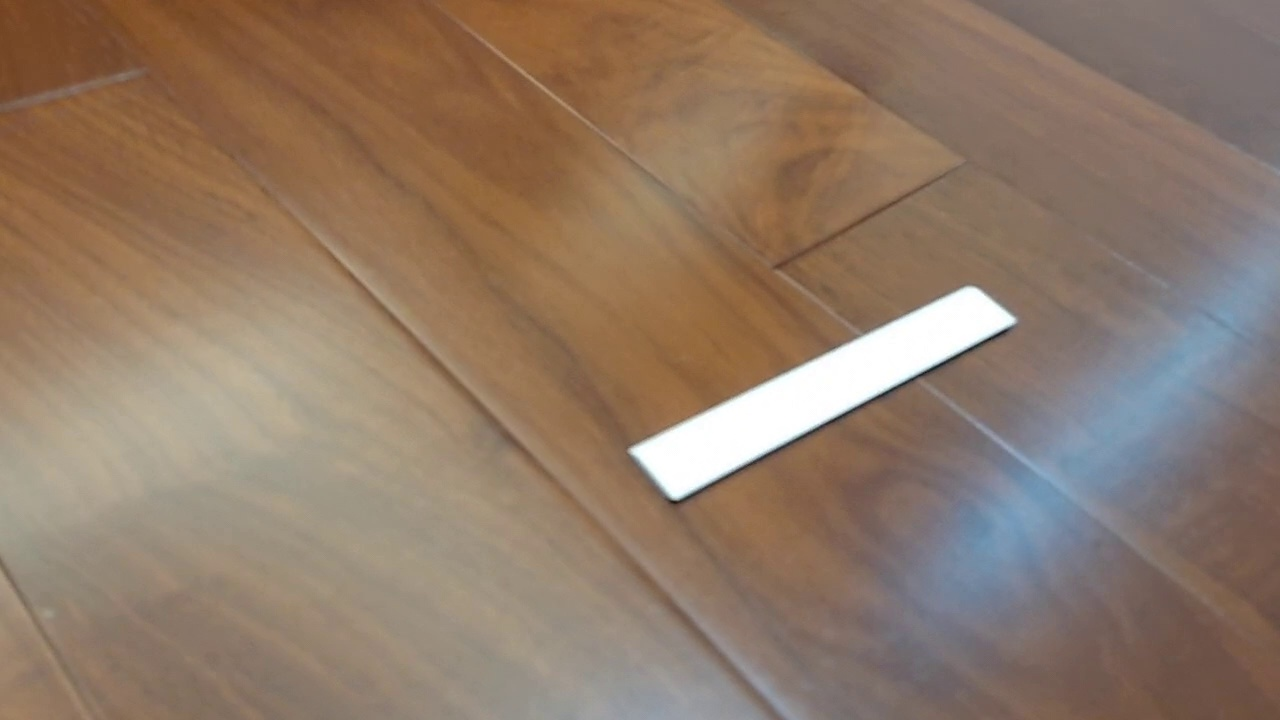ruler: (625, 283, 1021, 506)
